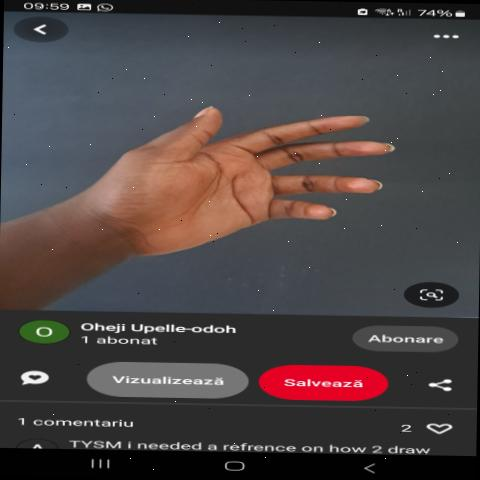hands: (28, 44, 454, 304)
